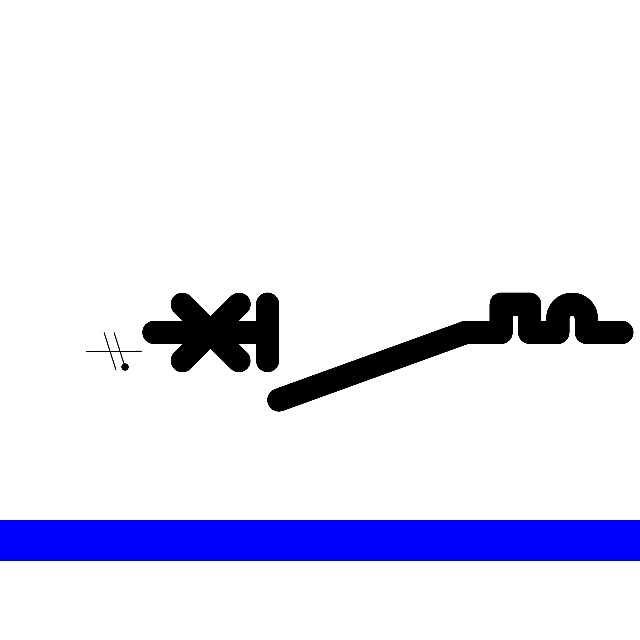interruptor_termomagnetico: (141, 292, 634, 412)
